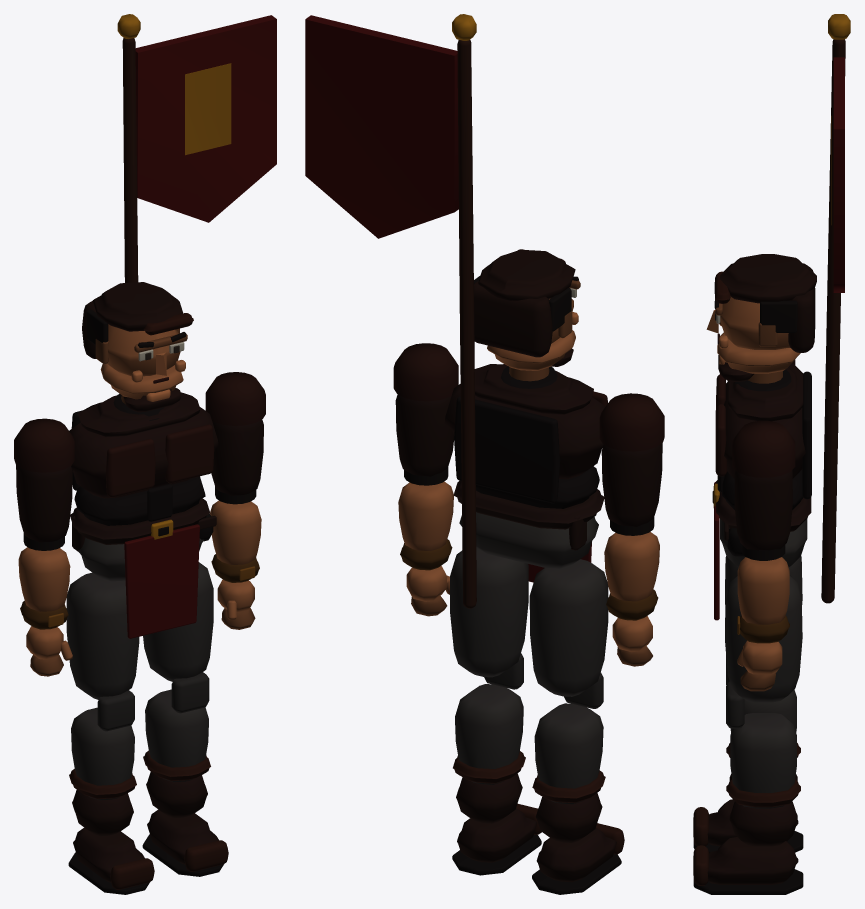
File: ComandanteEstandarteBase.fbx
3 renders of one model, left to right at view 1: azimuth 30°, elevation 25°; view 2: azimuth 150°, elevation 25°; view 3: azimuth 270°, elevation 25°, orthographic. The views are drawn at different scales.
Visible parts, largest first — view 1: Body, LegR, LegL, ArmR, ArmL, Head; view 2: Body, LegR, LegL, ArmR, ArmL, Head; view 3: Body, LegL, ArmL, Head, LegR.
Part boxes in pixels (bbox=[...]): Body: bbox=[69, 14, 276, 638]; LegR: bbox=[66, 572, 154, 894]; LegL: bbox=[142, 562, 228, 876]; ArmR: bbox=[14, 418, 74, 676]; ArmL: bbox=[205, 372, 265, 629]; Head: bbox=[82, 282, 193, 412]; Body: bbox=[305, 14, 607, 608]; LegR: bbox=[529, 559, 624, 894]; LegL: bbox=[450, 547, 541, 875]; ArmR: bbox=[599, 393, 664, 666]; ArmL: bbox=[393, 343, 458, 616]; Head: bbox=[474, 249, 580, 381]; Body: bbox=[712, 14, 850, 620]; LegL: bbox=[693, 575, 803, 894]; ArmL: bbox=[732, 420, 795, 691]; Head: bbox=[706, 254, 816, 383]; LegR: bbox=[693, 556, 803, 852].
Bounding box in the file's own units: 0.9434 × 2.51 × 0.416.
